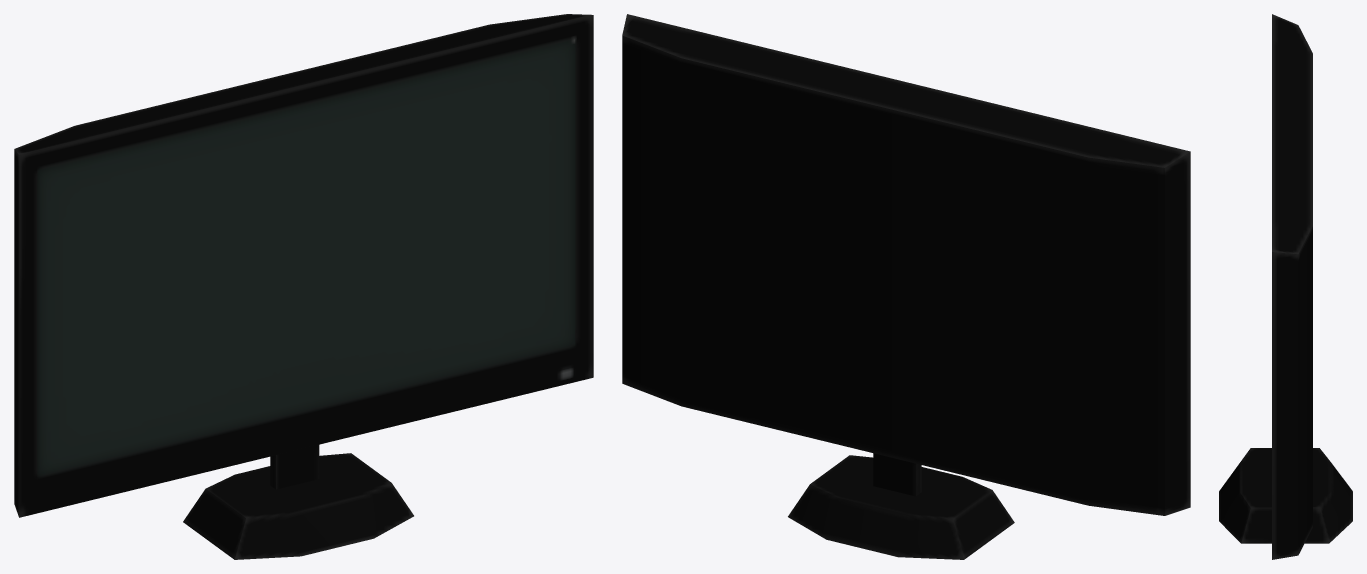
Rendered from sb_obj_ModernCity035_monitor.fbx.
The picture shows the model from 3 angles, left to right: view 1: azimuth 30°, elevation 25°; view 2: azimuth 150°, elevation 25°; view 3: azimuth 270°, elevation 25°; orthographic projection. The views are drawn at different scales.
Parts seen in each view (by area): view 1: sb_obj_ModernCity035_monitor; view 2: sb_obj_ModernCity035_monitor; view 3: sb_obj_ModernCity035_monitor.
Boxes of the visible parts, x1,y1,x2,y2 form: sb_obj_ModernCity035_monitor: (14,14,593,559); sb_obj_ModernCity035_monitor: (622,14,1190,559); sb_obj_ModernCity035_monitor: (1219,14,1352,559).
Size of the model in its own units: 0.6872 by 0.5026 by 0.1632.
Materials: 1 (1 with a texture image).
